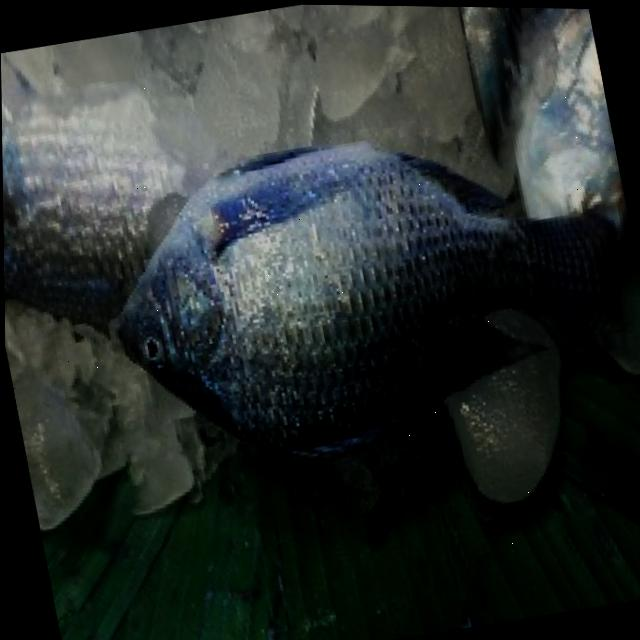Fresh: (64, 65, 509, 522)
